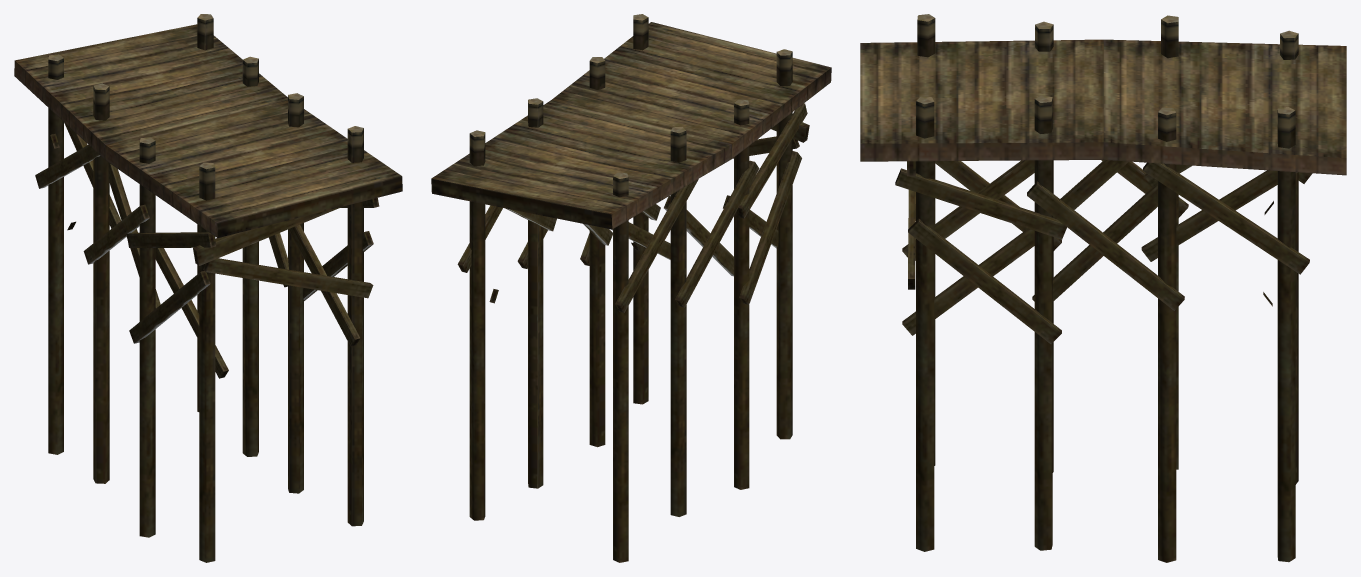
Rendered from nsm-general_obj_01_2.fbx.
The picture shows the model from 3 angles, left to right: view 1: azimuth 30°, elevation 25°; view 2: azimuth 150°, elevation 25°; view 3: azimuth 270°, elevation 25°; orthographic projection. The views are drawn at different scales.
Visible parts, largest first — view 1: Mesh02; view 2: Mesh02; view 3: Mesh02.
Boxes of the visible parts, x1,y1,x2,y2 form: Mesh02: [14, 14, 402, 562]; Mesh02: [431, 14, 831, 562]; Mesh02: [860, 14, 1346, 562].
Bounding box in the file's own units: 5.43 × 10.44 × 10.
